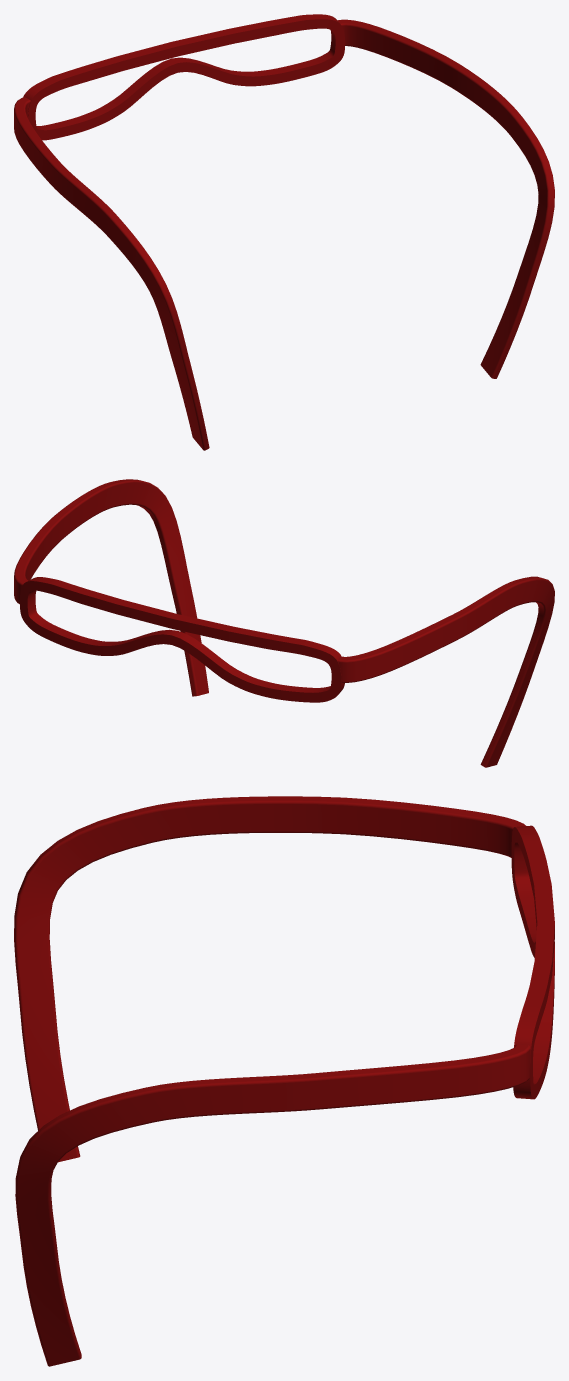
Rendered from glass_print_2-19.obj.
3 renders of one model, top to bottom at view 1: azimuth 30°, elevation 25°; view 2: azimuth 150°, elevation 25°; view 3: azimuth 270°, elevation 25°, orthographic. The views are drawn at different scales.
Visible parts, largest first — view 1: Line023; view 2: Line023; view 3: Line023.
Part boxes in pixels (x1,y1,x2,y2): Line023: (14,14,554,450); Line023: (14,479,554,767); Line023: (14,796,554,1366).
Bounding box in the file's own units: 135 × 75 × 107.
